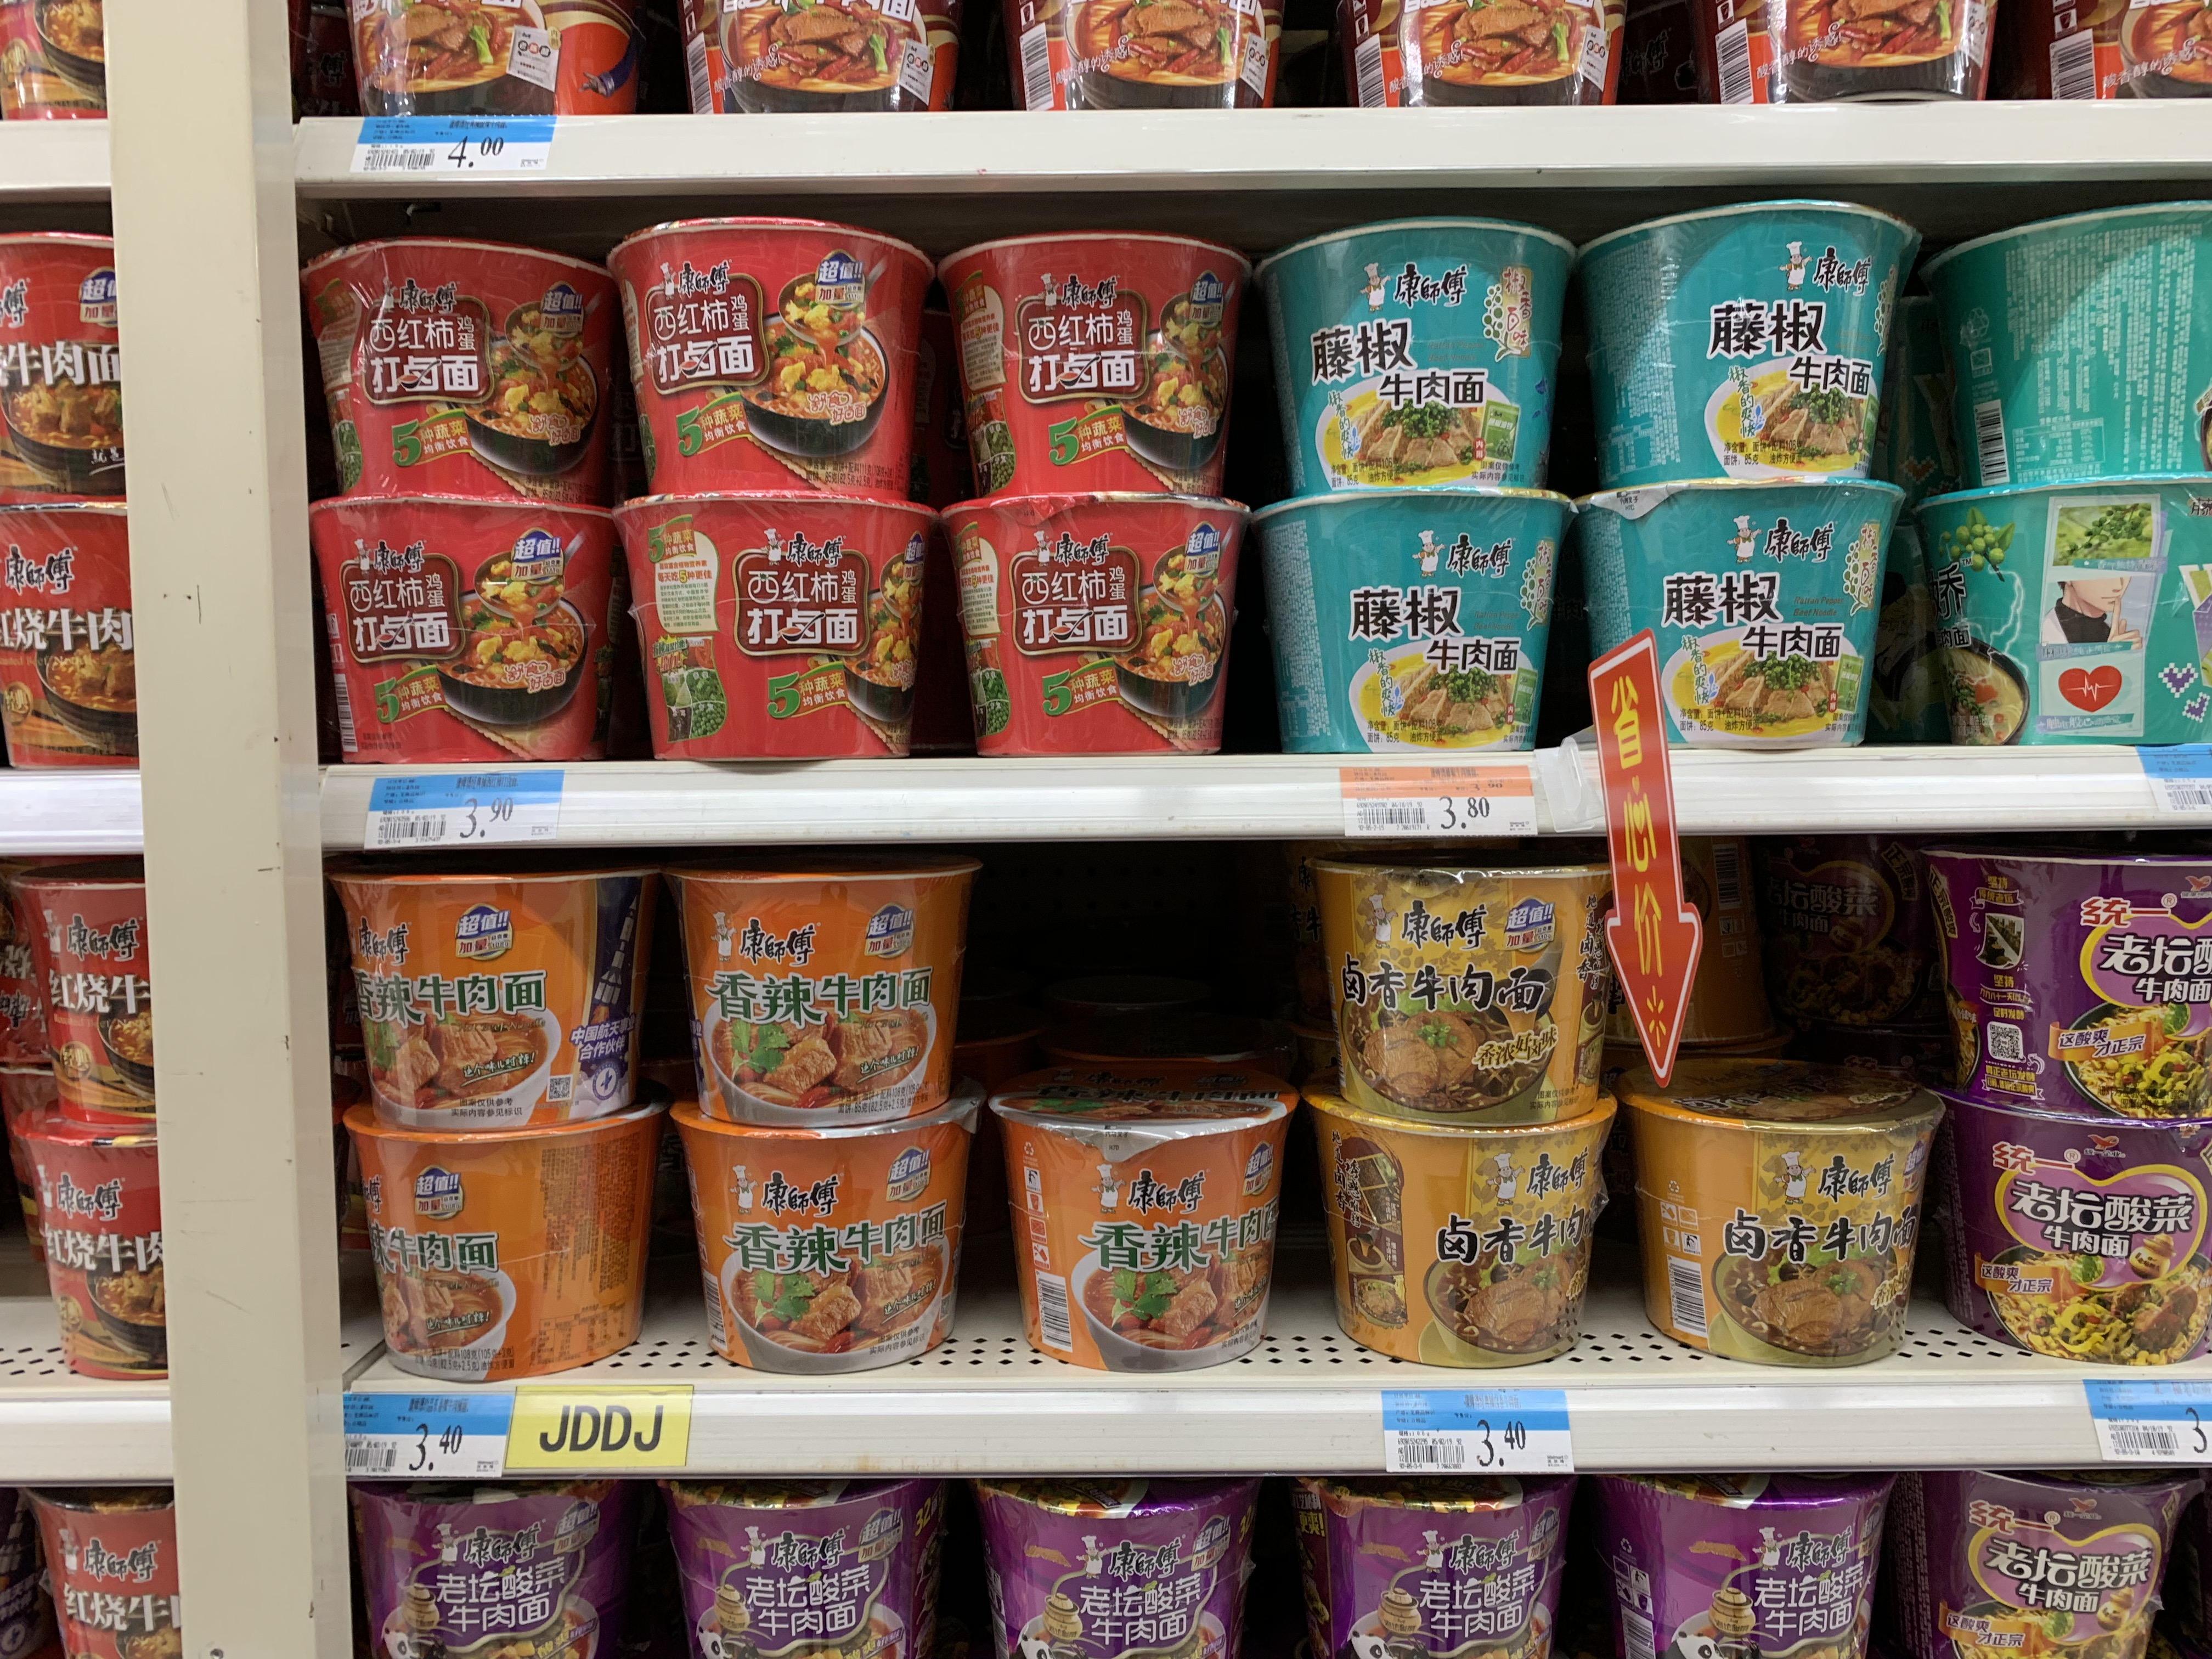luxiang: (1616, 1056, 1947, 1373), (1301, 852, 1616, 1131), (1305, 1129, 1620, 1371)
xiangla: (986, 1060, 1301, 1375), (343, 1098, 664, 1385), (327, 864, 665, 1134), (669, 857, 988, 1131), (671, 1126, 986, 1377)
